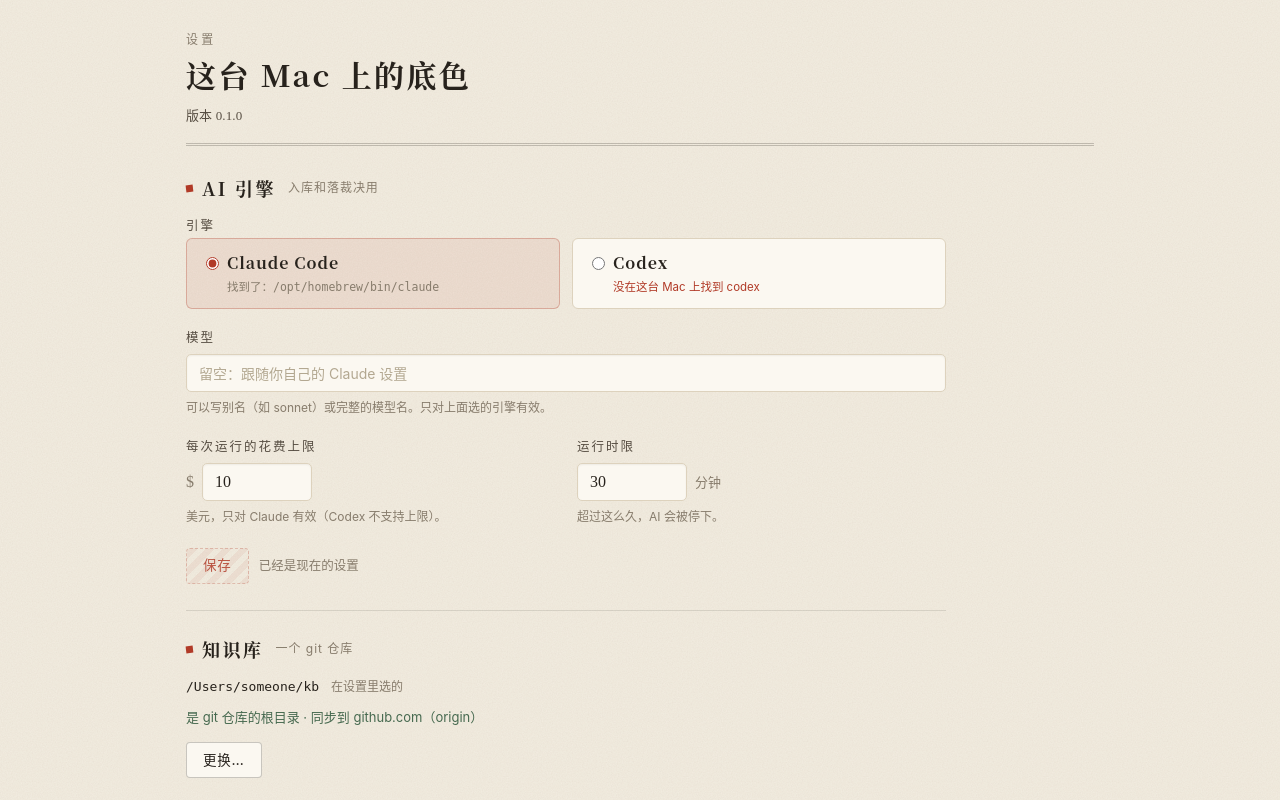
Test case: the knowledge-base folder › warns about a folder without AGENTS.md and a remote the branch does not follow
Click the button "更换…". click: (224, 760)
box: [186,742,262,778]
(page scrolled)
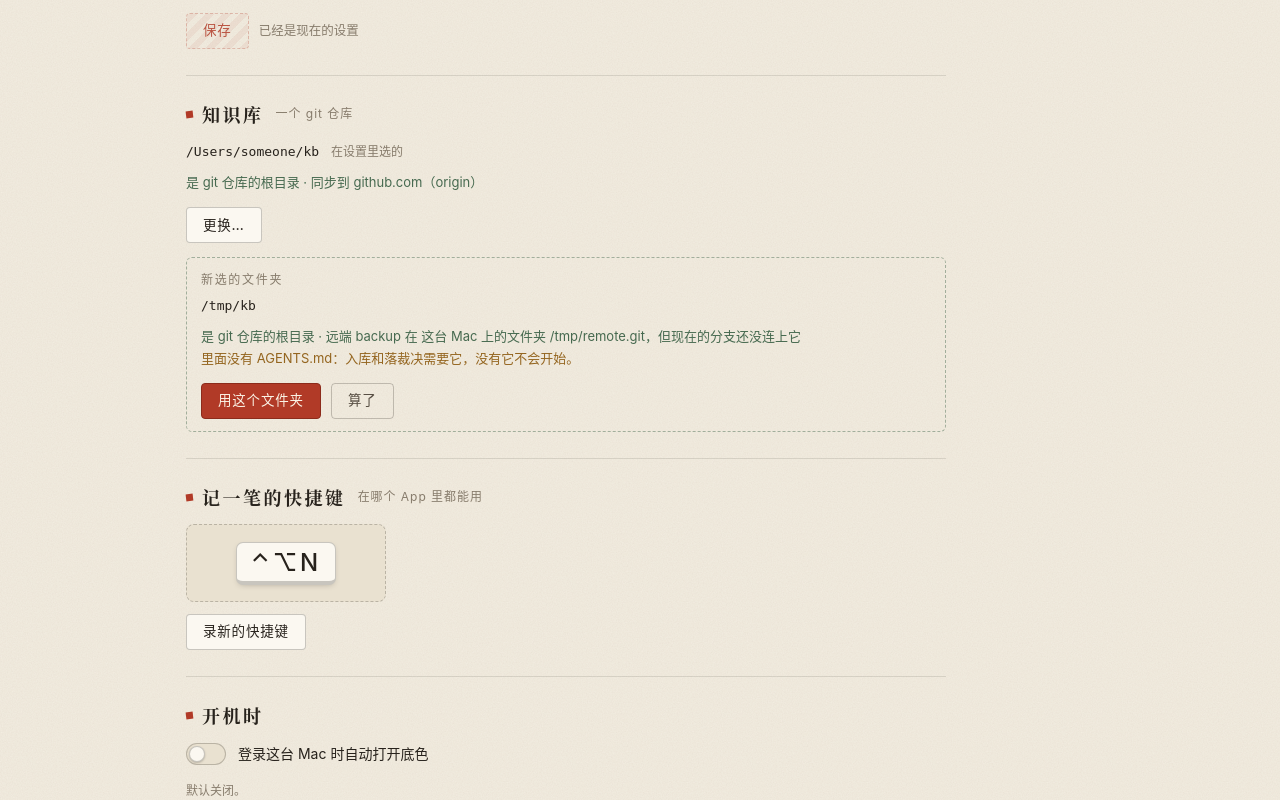
Now the element with class "kb-candidate" shows "没有 AGENTS.md", box [201,350,579,366]
Now the element with class "kb-candidate" shows "这台 Mac 上的文件夹 /tmp/remote.git", box [326,328,801,344]
Now the element with class "kb-candidate" shows "还没连上它", box [326,328,801,344]
